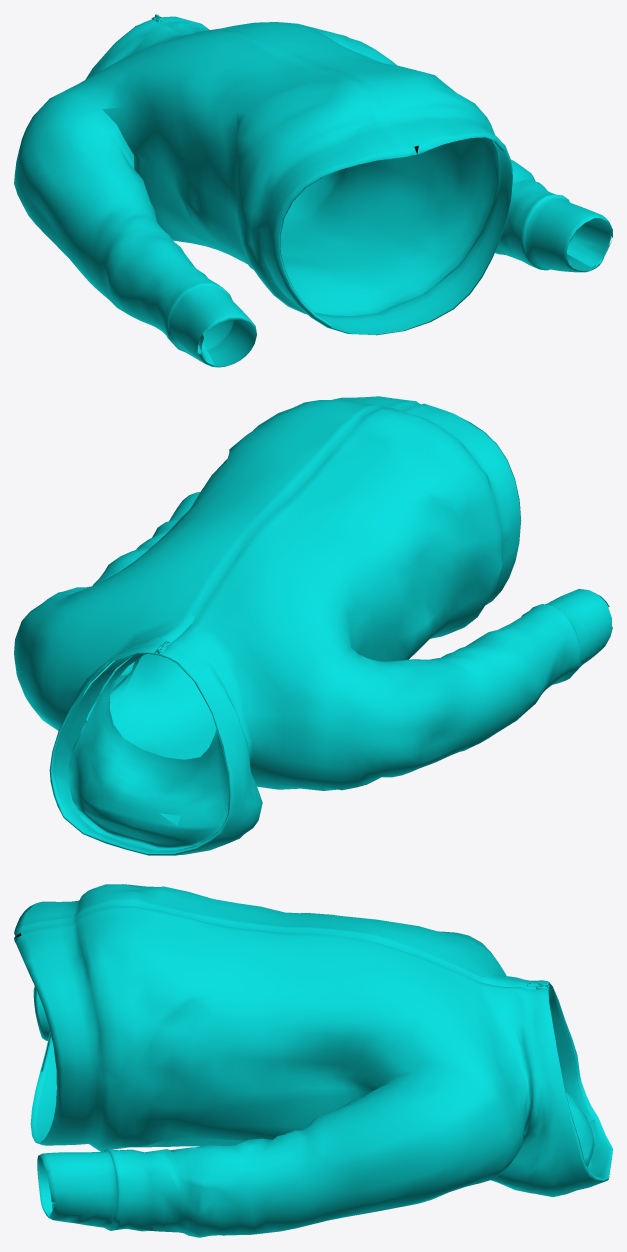
File: Upper_Body1.fbx
3 views of the same model, one above another, from view 1: azimuth 30°, elevation 25°; view 2: azimuth 150°, elevation 25°; view 3: azimuth 270°, elevation 25° (orthographic). The views are drawn at different scales.
Parts seen in each view (by area): view 1: polySurface35; view 2: polySurface35; view 3: polySurface35.
Boxes of the visible parts, <box> form: polySurface35: <box>14,14,612,367</box>; polySurface35: <box>14,396,612,855</box>; polySurface35: <box>14,884,612,1237</box>.
Bounding box in the file's own units: 53.66 × 31.61 × 63.14.
